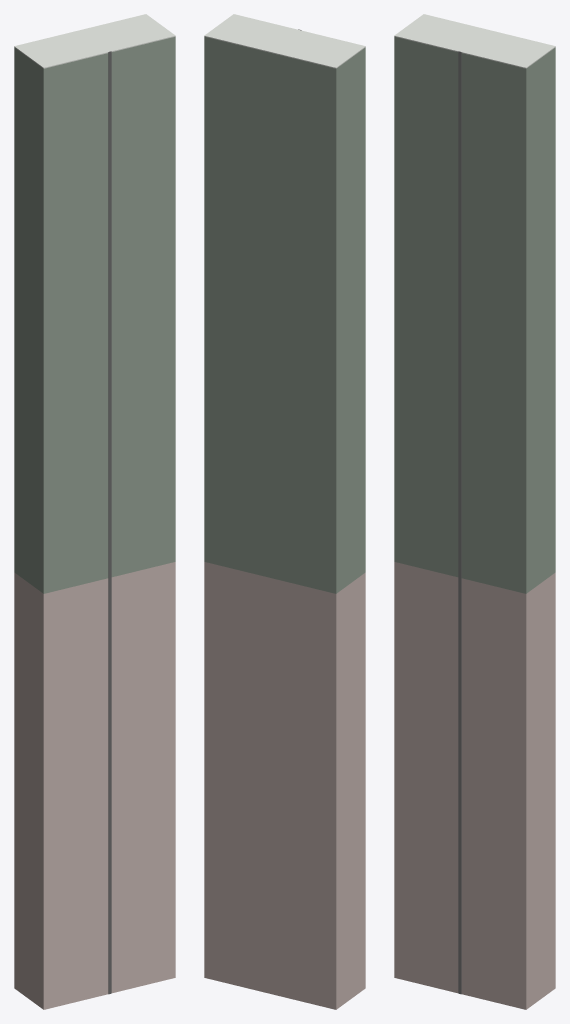
The model's file is measured-kola-borehole.glb.
3 views of the same model, side by side, from view 1: azimuth 30°, elevation 25°; view 2: azimuth 150°, elevation 25°; view 3: azimuth 330°, elevation 25° (orthographic).
Parts seen in each view (by area): view 1: Proterozoic, Archean, ground surface, borehole; view 2: Proterozoic, Archean, ground surface; view 3: Proterozoic, Archean, ground surface, borehole.
Part boxes in pixels (box(x1,y1,x2,y2)): Proterozoic: box(14, 36, 175, 593); Archean: box(14, 562, 175, 1009); ground surface: box(14, 14, 175, 68); borehole: box(108, 51, 111, 994); Proterozoic: box(204, 36, 365, 593); Archean: box(204, 562, 365, 1009); ground surface: box(204, 14, 365, 68); Proterozoic: box(394, 36, 555, 593); Archean: box(394, 562, 555, 1009); ground surface: box(394, 14, 555, 68); borehole: box(458, 51, 461, 994).
Bounding box in the file's own units: 1800 × 12276 × 706.
